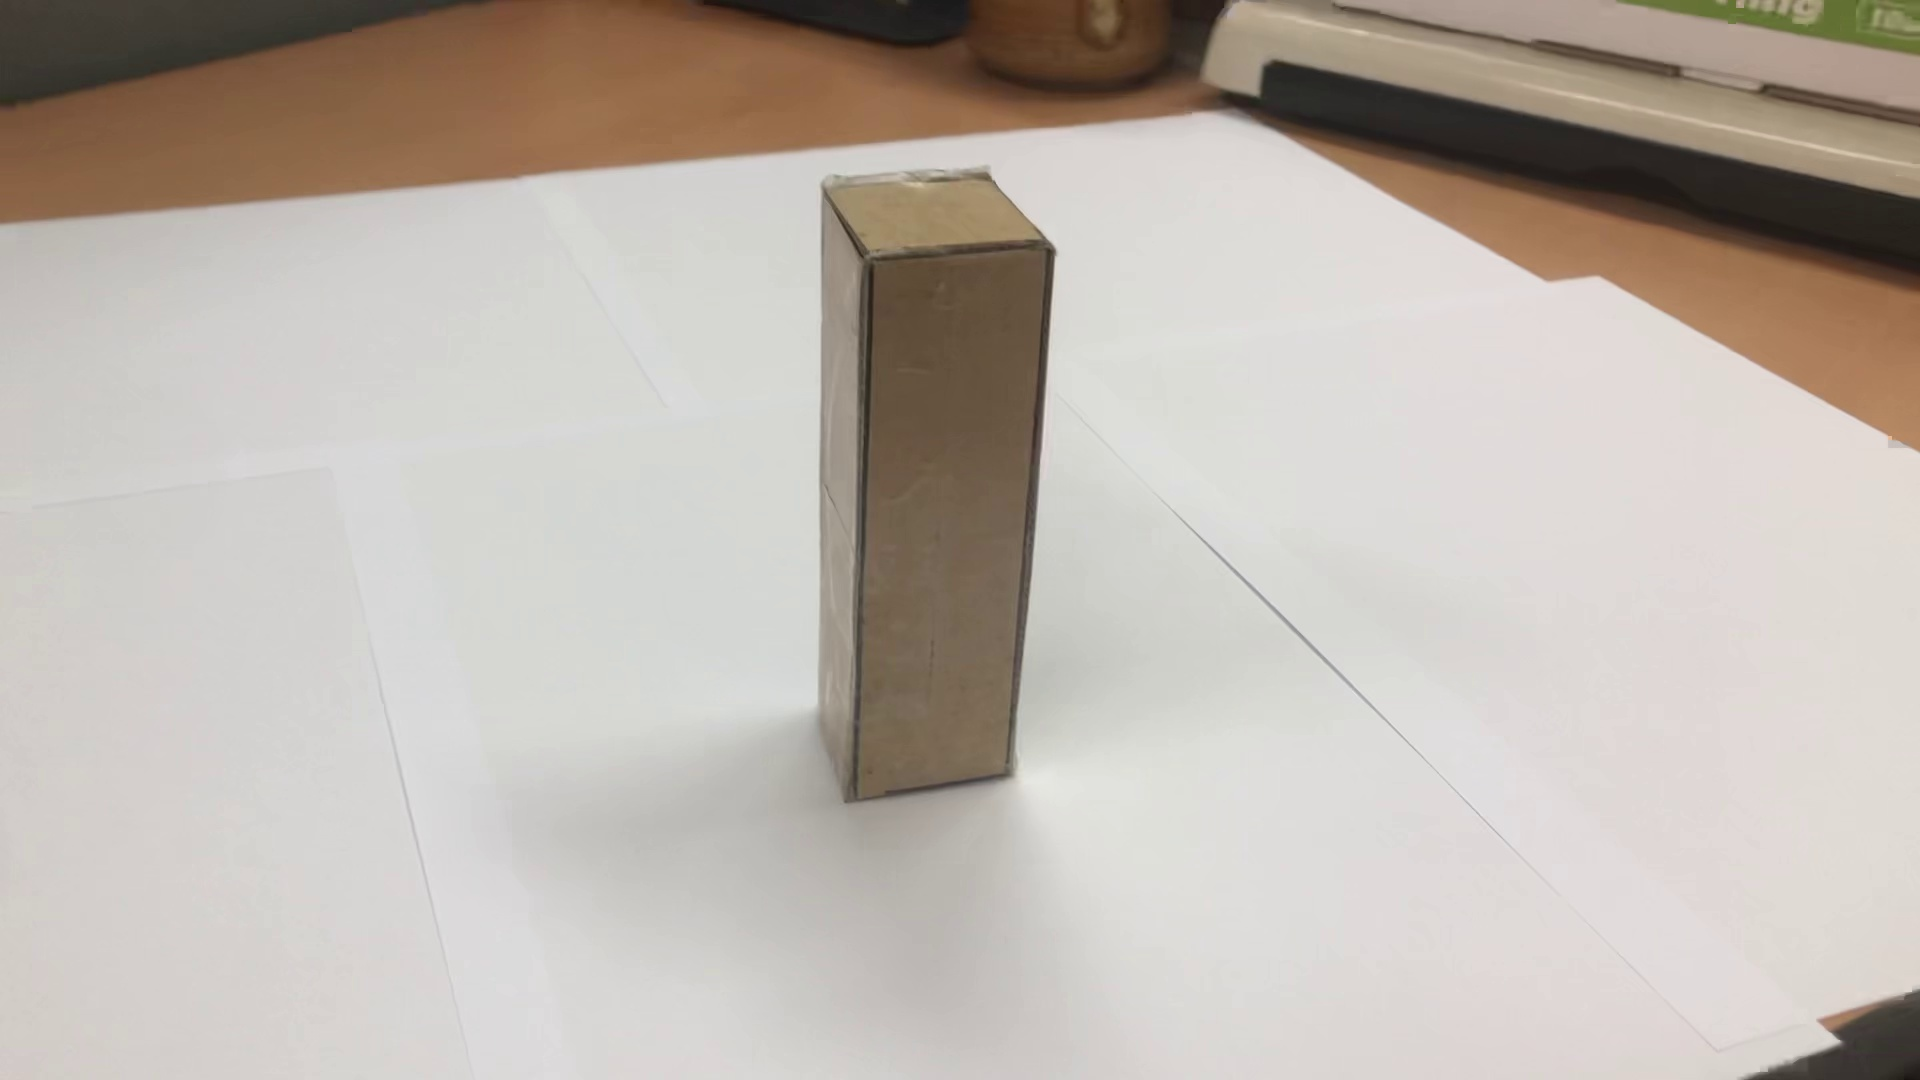box: (800, 152, 1080, 843)
